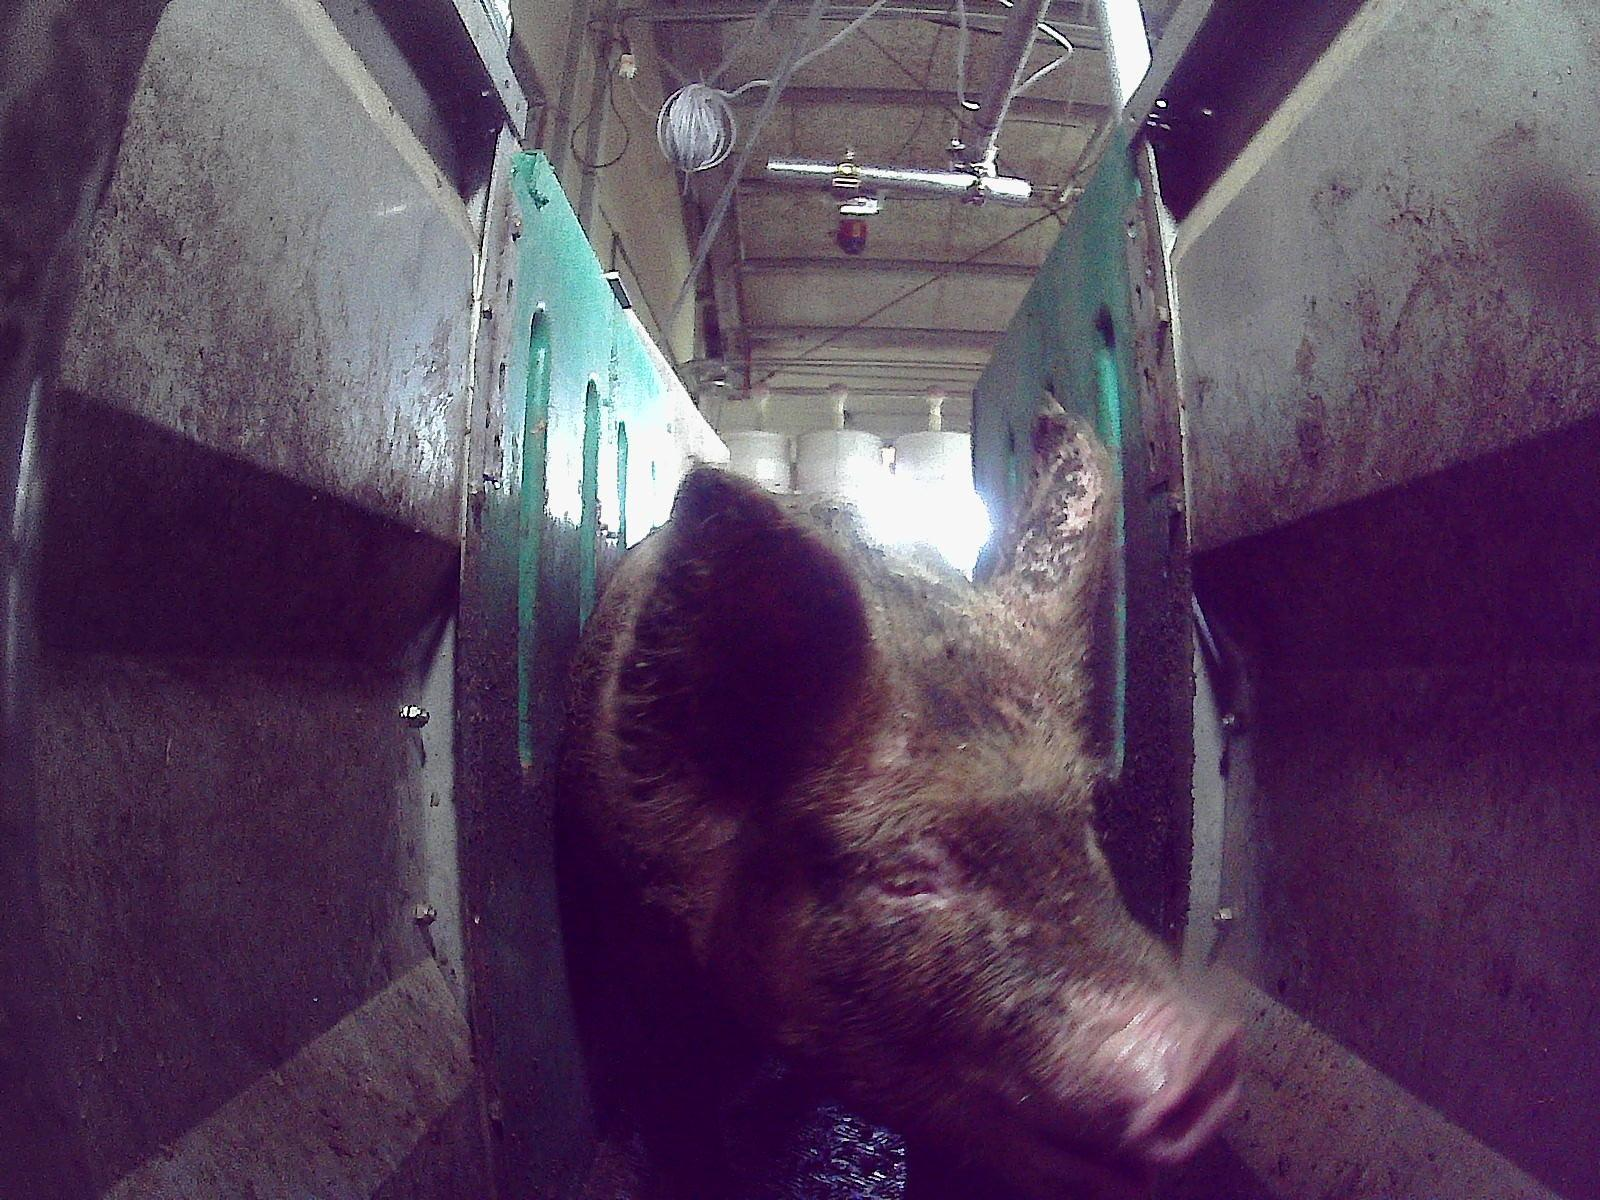Face: (696, 564, 1239, 1183)
